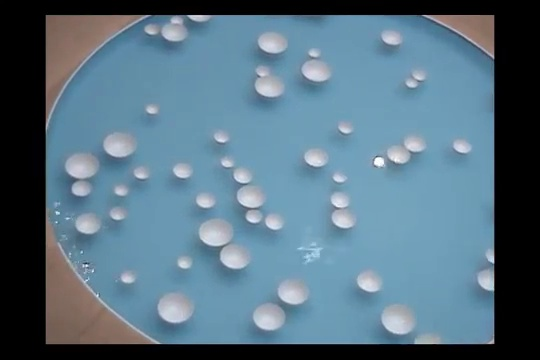bowl: (157, 291, 194, 324), (380, 303, 417, 334), (198, 217, 233, 246), (64, 152, 101, 179), (103, 131, 138, 159), (253, 302, 286, 331), (276, 278, 311, 304), (220, 243, 251, 270), (301, 59, 333, 85), (254, 76, 285, 100), (236, 184, 267, 208), (258, 31, 288, 54), (357, 269, 383, 293), (75, 212, 101, 235), (331, 207, 357, 230), (386, 144, 411, 166), (161, 23, 189, 42), (403, 134, 429, 154), (304, 147, 329, 167), (380, 28, 404, 46), (71, 179, 94, 197), (194, 191, 217, 209), (172, 162, 194, 180), (452, 138, 474, 156), (265, 213, 286, 231), (330, 191, 351, 209), (109, 205, 131, 222), (477, 268, 494, 290), (413, 332, 443, 344), (233, 167, 253, 184), (243, 208, 263, 224), (133, 165, 151, 182), (213, 129, 232, 145), (113, 183, 131, 197), (189, 14, 213, 24), (177, 255, 193, 270), (120, 270, 138, 283), (143, 23, 160, 36), (338, 121, 355, 134), (412, 68, 428, 81), (332, 171, 348, 184), (145, 103, 161, 115), (255, 65, 271, 77), (221, 156, 236, 168), (404, 77, 419, 89), (484, 247, 494, 264), (308, 47, 323, 58), (170, 15, 184, 25)
